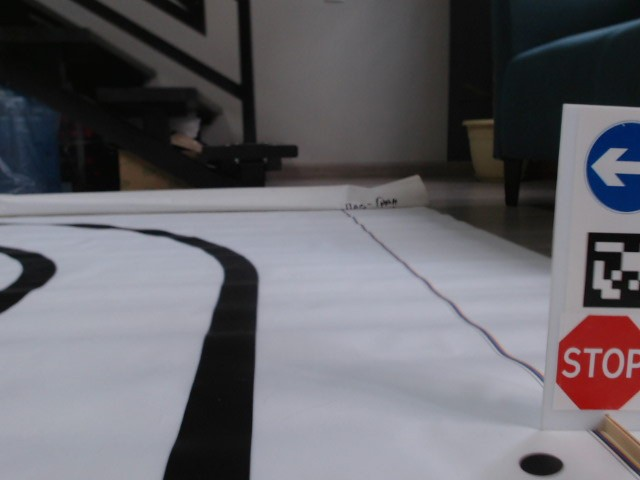Stop: (552, 311, 640, 413)
